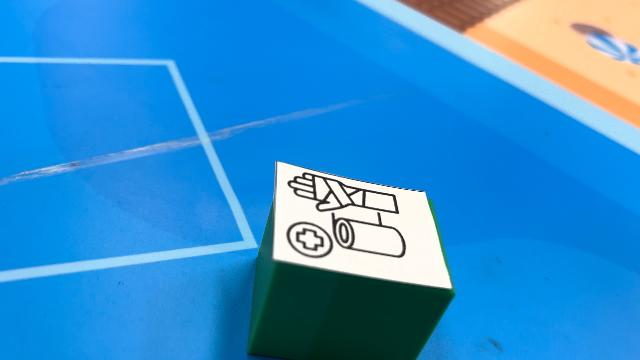bandage: (247, 161, 456, 359)
